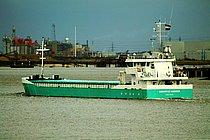Ship: (15, 36, 198, 107)
